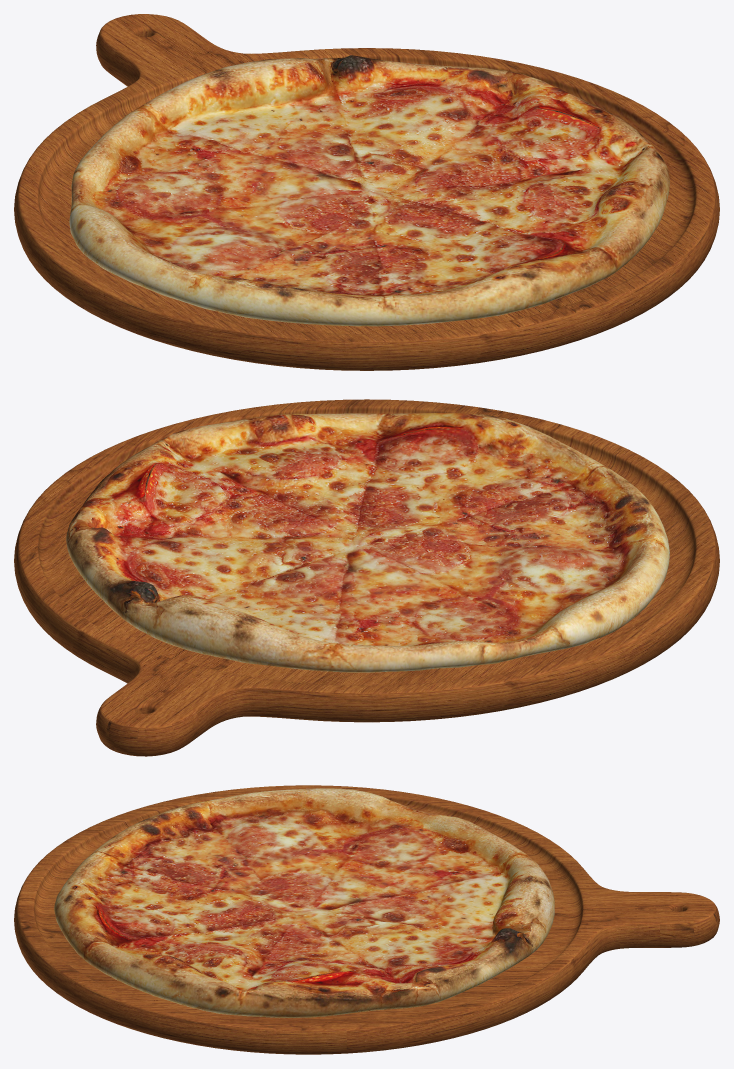
3 views of the same model, one above another, from view 1: azimuth 30°, elevation 25°; view 2: azimuth 150°, elevation 25°; view 3: azimuth 270°, elevation 25° (orthographic). The views are drawn at different scales.
Parts seen in each view (by area): view 1: cgaxis_models_56_12; view 2: cgaxis_models_56_12; view 3: cgaxis_models_56_12.
Part boxes in pixels (x1,y1,x2,y2): cgaxis_models_56_12: (14,14,719,370); cgaxis_models_56_12: (14,399,719,756); cgaxis_models_56_12: (14,785,719,1054).
Bounding box in the file's own units: 0.1679 × 0.0152 × 0.2012.
2 materials, 2 textured.
